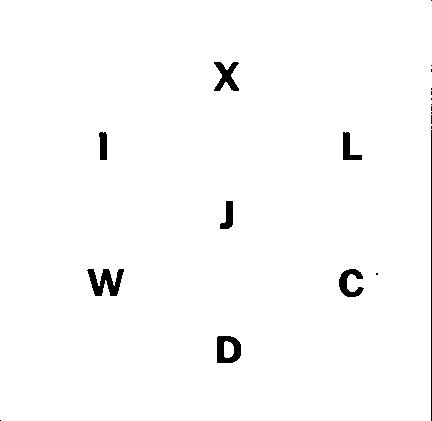I: (92, 127, 118, 168)
